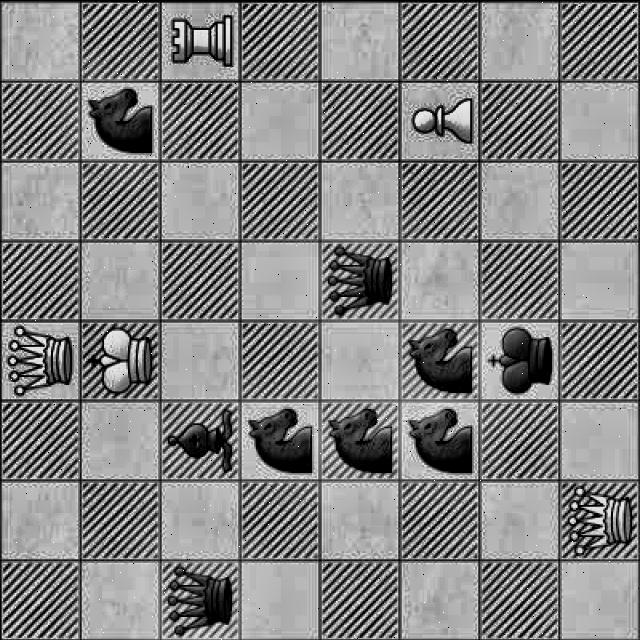Black Knight: (80, 81, 161, 158), (322, 398, 398, 476), (400, 401, 478, 475), (402, 326, 476, 396), (243, 404, 316, 474)
black king: (481, 321, 558, 398)
black queen: (162, 560, 238, 640), (322, 243, 398, 317)
white king: (85, 322, 156, 394)
white pawn: (406, 83, 476, 157)
white queen: (560, 482, 640, 556), (3, 322, 78, 396)
white rook: (164, 6, 234, 73)
